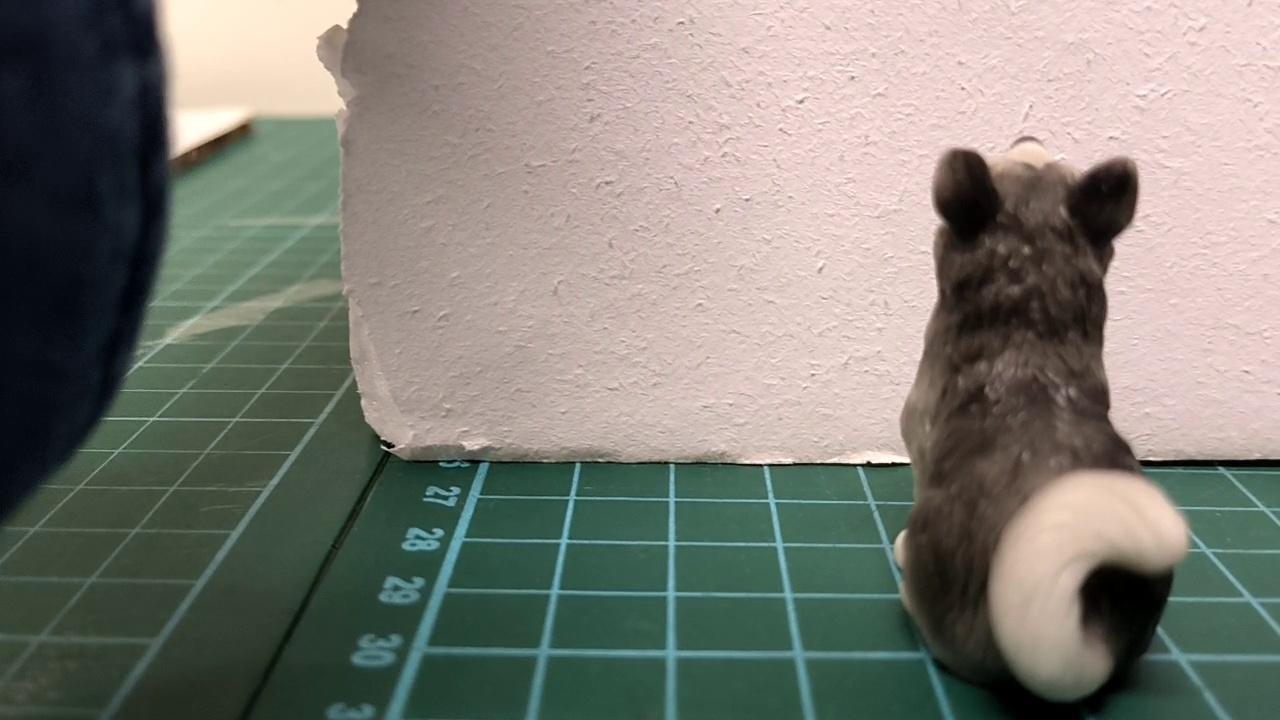pet: (890, 130, 1191, 712)
